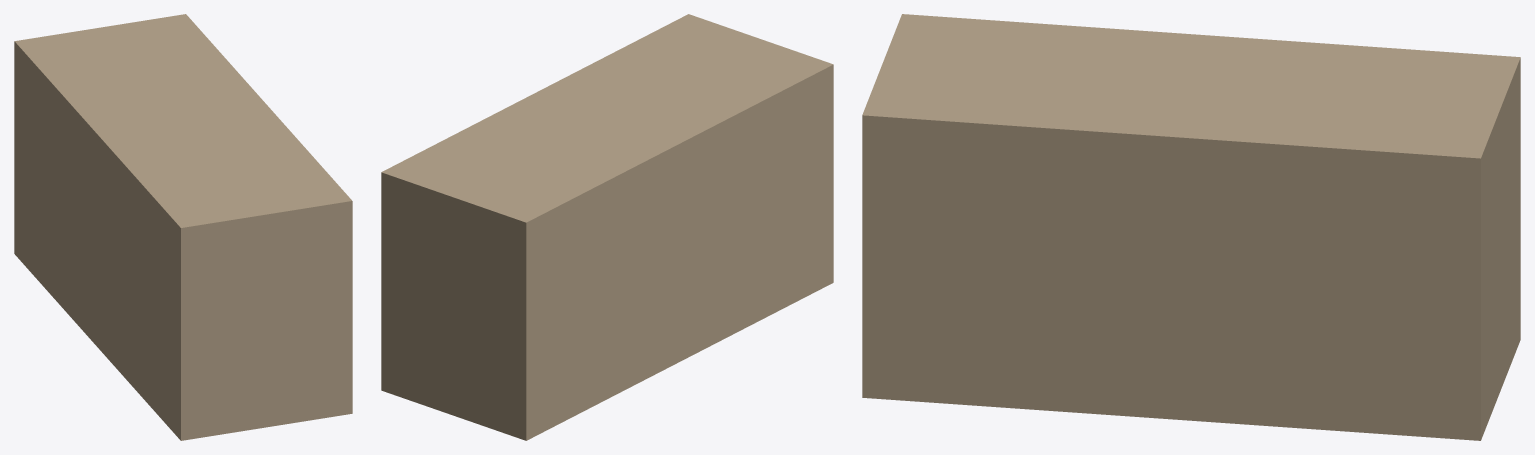
Rendered from bld_1388224745.dae.
3 views of the same model, side by side, from view 1: azimuth 30°, elevation 25°; view 2: azimuth 150°, elevation 25°; view 3: azimuth 270°, elevation 25° (orthographic). The views are drawn at different scales.
Visible parts, largest first — view 1: bld_1388224745; view 2: bld_1388224745; view 3: bld_1388224745.
Part boxes in pixels (x1,y1,x2,y2): bld_1388224745: [14, 14, 352, 440]; bld_1388224745: [381, 14, 833, 440]; bld_1388224745: [862, 14, 1520, 440].
Size of the model in its own units: 8.78 by 16.9 by 8.
